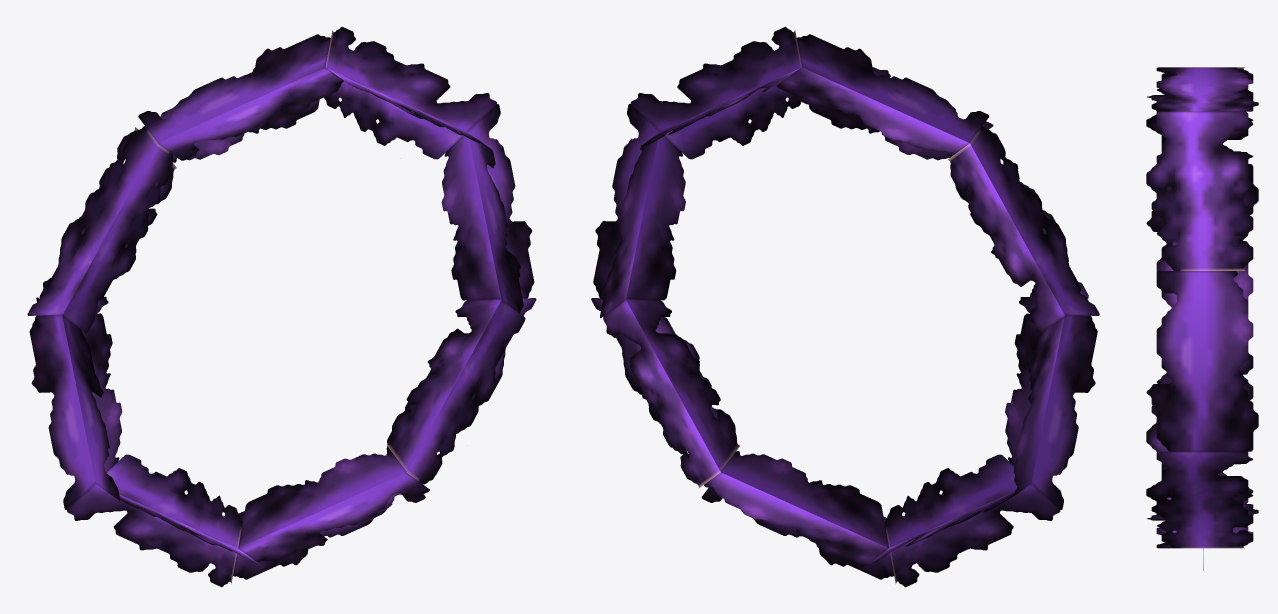
The picture shows the model from 3 angles, left to right: view 1: azimuth 30°, elevation 25°; view 2: azimuth 150°, elevation 25°; view 3: azimuth 270°, elevation 25°; orthographic projection. The views are drawn at different scales.
Visible parts, largest first — view 1: T1L9M006_26; view 2: T1L9M006_26; view 3: T1L9M006_26.
Part boxes in pixels (left/top/right/bottom): T1L9M006_26: left=27, top=26, right=536, bottom=587; T1L9M006_26: left=591, top=26, right=1099, bottom=587; T1L9M006_26: left=1146, top=67, right=1258, bottom=570.
Bounding box in the file's own units: 2.83 × 2.83 × 0.5957.
